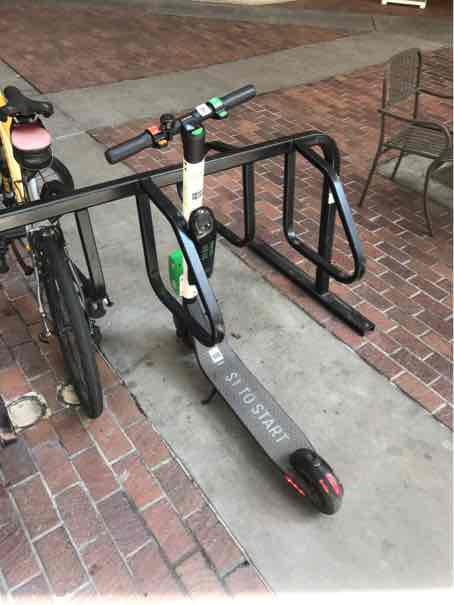scooter: (99, 78, 352, 523)
